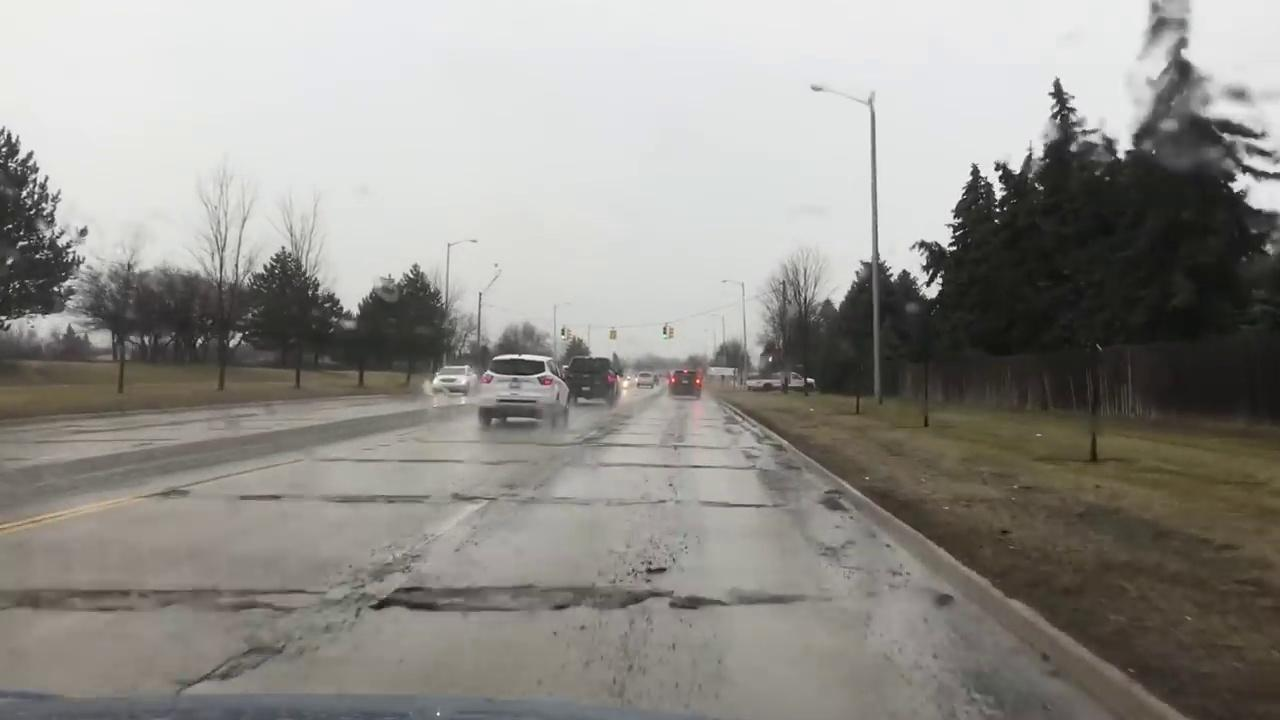pothole: (3, 584, 331, 617), (365, 582, 669, 611), (177, 641, 284, 693)
